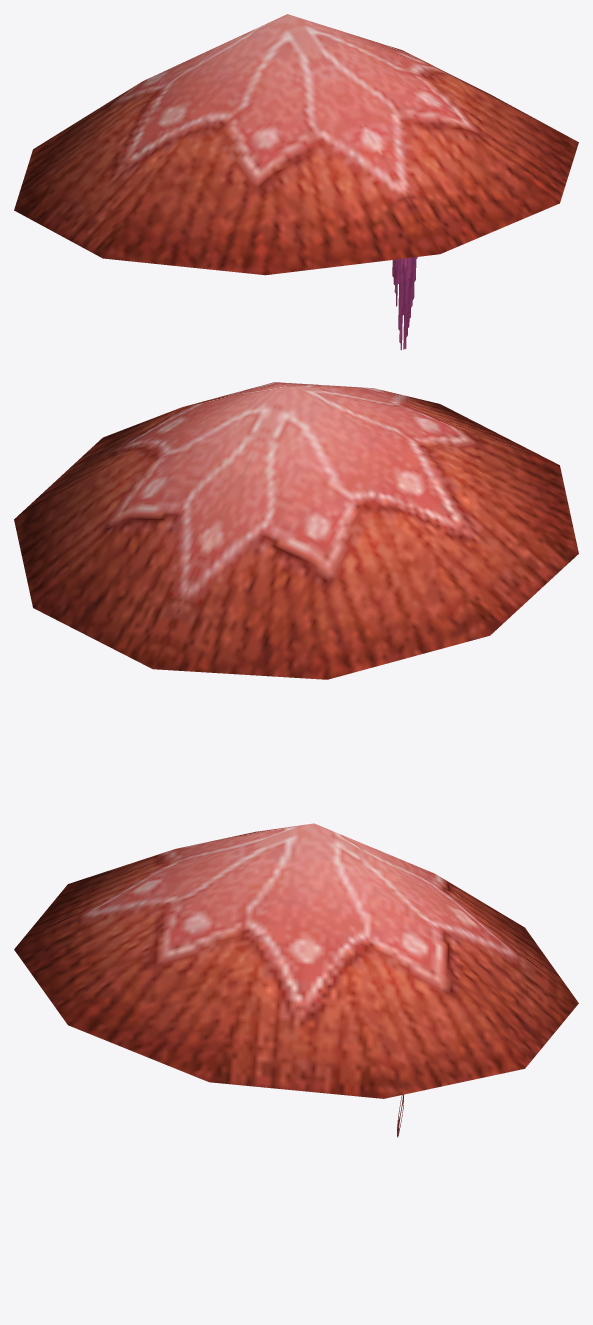
The picture shows the model from 3 angles, top to bottom: view 1: azimuth 30°, elevation 25°; view 2: azimuth 150°, elevation 25°; view 3: azimuth 270°, elevation 25°; orthographic projection.
Visible parts, largest first — view 1: clothes_02_ha; view 2: clothes_02_ha; view 3: clothes_02_ha.
Part boxes in pixels (x1,y1,x2,y2): clothes_02_ha: [14, 14, 578, 349]; clothes_02_ha: [14, 382, 578, 679]; clothes_02_ha: [14, 823, 578, 1137].
Bounding box in the file's own units: 0.4666 × 0.3828 × 0.488.
1 material, 1 textured.
